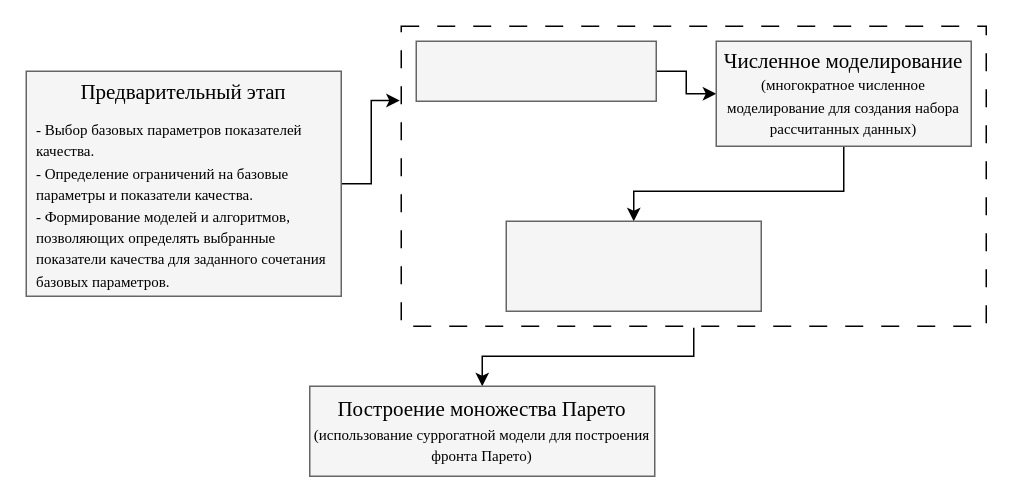
Image size: 1013x503. Some labels were removed from this diagram. The centre of each missing label's shape, as x and y in pixels:
Создание и обучение нейросетевой суррогатной модели: the point at 633,265
Формирование выборки данных: the point at 535,70
